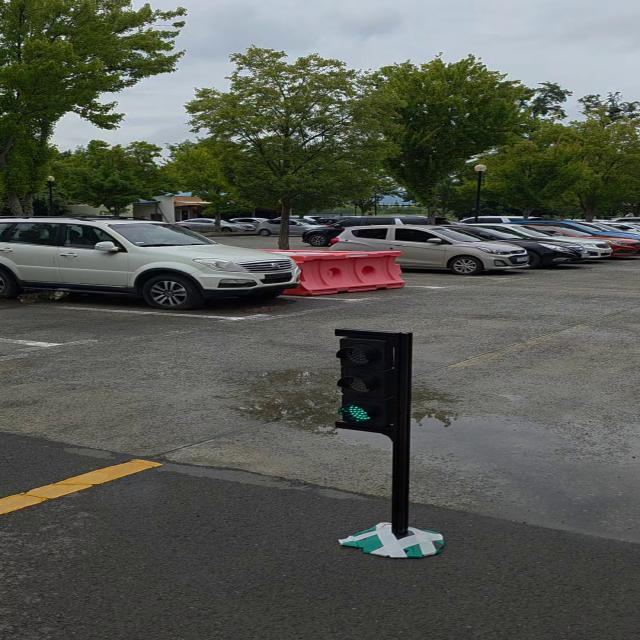green: (326, 328, 413, 436)
